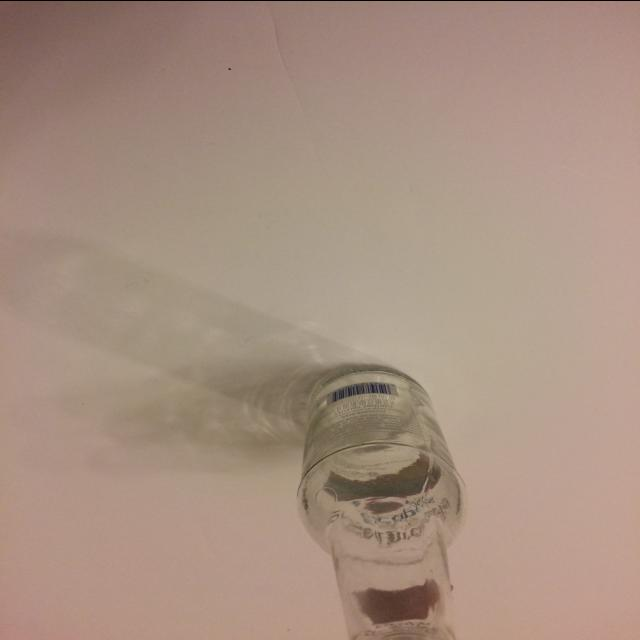glass: (264, 339, 504, 640)
